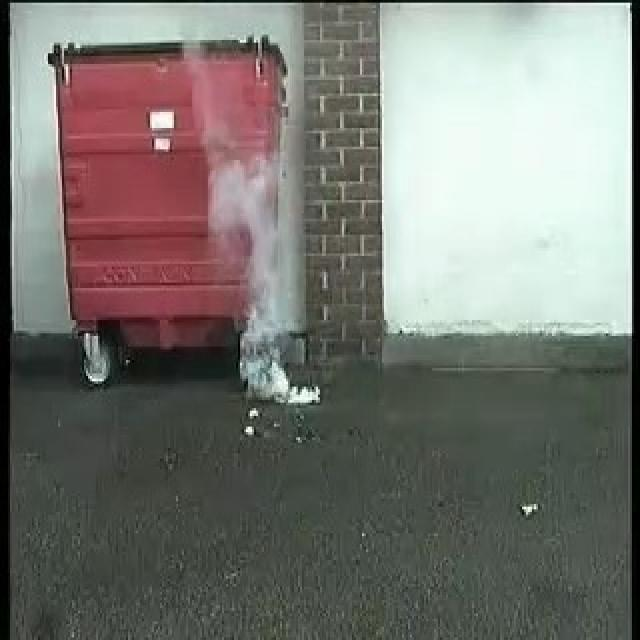smoke: (207, 172, 319, 409)
